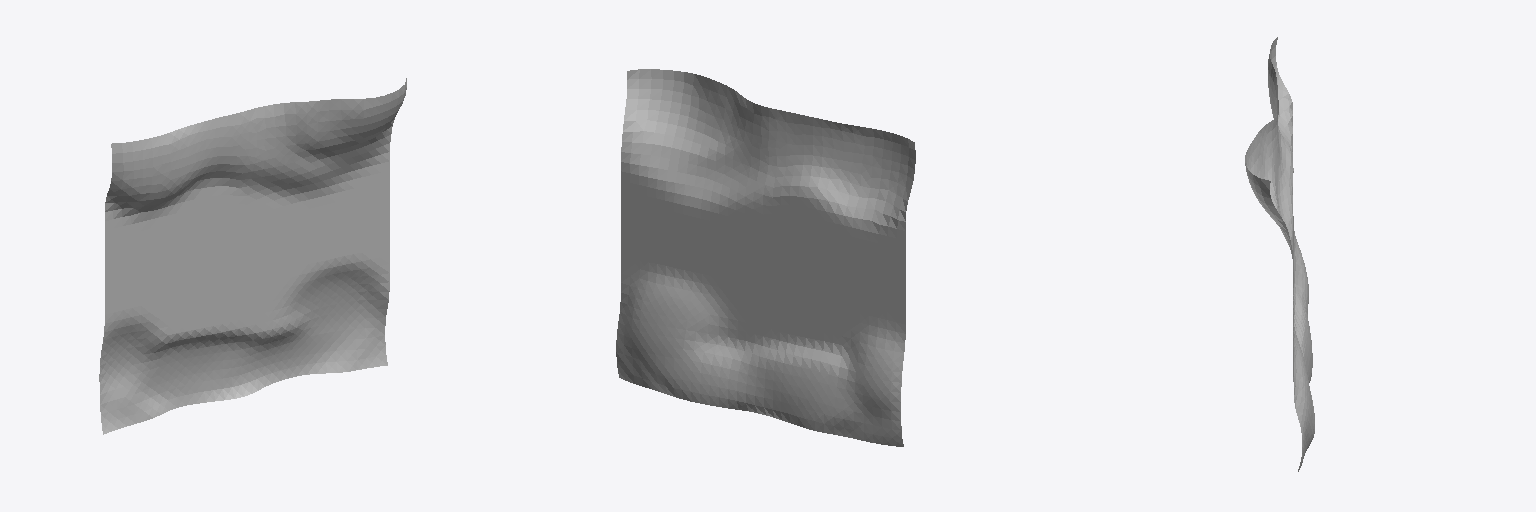
Rendered from land_3dsm.obj.
3 renders of one model, left to right at view 1: azimuth 30°, elevation 25°; view 2: azimuth 150°, elevation 25°; view 3: azimuth 270°, elevation 25°, orthographic.
Visible parts, largest first — view 1: default; view 2: default; view 3: default.
Part boxes in pixels (x1,y1,x2,y2): default: (99,78,406,434); default: (616,69,915,446); default: (1245,37,1314,471).
Bounding box in the file's own units: 3.07 × 3.02 × 0.6422.